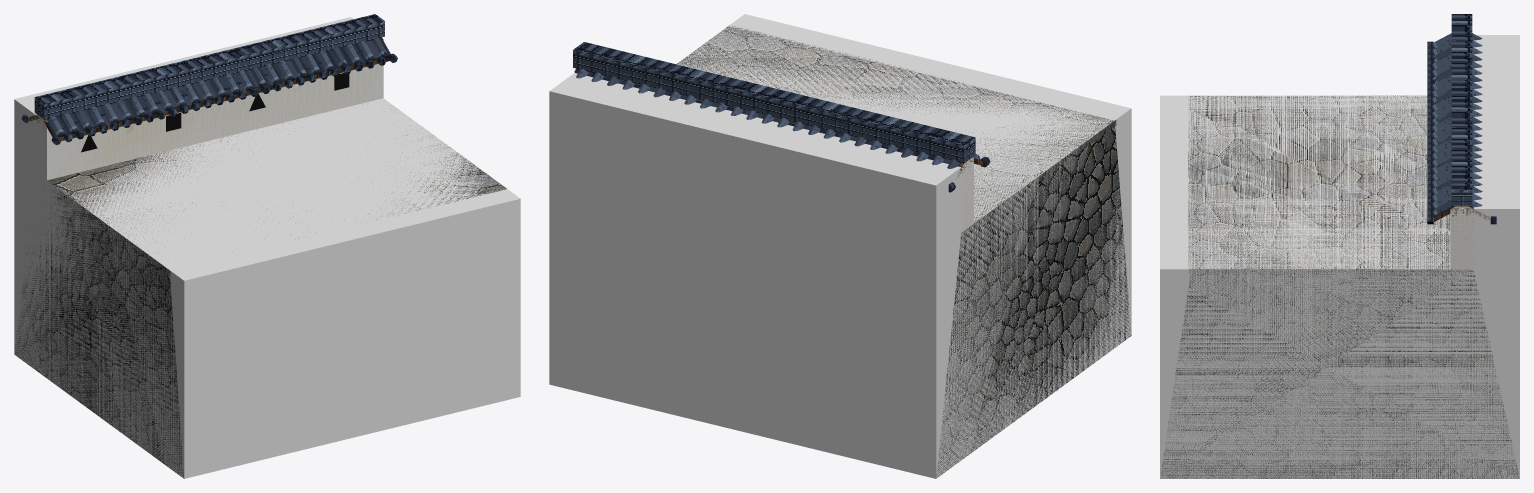
The model's file is JP_Rich_CityWall_8m_A.glb.
3 views of the same model, side by side, from view 1: azimuth 30°, elevation 25°; view 2: azimuth 150°, elevation 25°; view 3: azimuth 270°, elevation 25° (orthographic). The views are drawn at different scales.
Visible parts, largest first — view 1: COL_JP_Rich_CityWall_8m_A, JP_Rich_CityWall_8m_A, COL_JP_Rich_CityWall_8m_A_Parapet; view 2: COL_JP_Rich_CityWall_8m_A, JP_Rich_CityWall_8m_A, COL_JP_Rich_CityWall_8m_A_Parapet; view 3: COL_JP_Rich_CityWall_8m_A, JP_Rich_CityWall_8m_A, COL_JP_Rich_CityWall_8m_A_Parapet.
Boxes of the visible parts, bbox=[...] form: COL_JP_Rich_CityWall_8m_A: bbox=[14, 98, 520, 478]; JP_Rich_CityWall_8m_A: bbox=[15, 14, 506, 478]; COL_JP_Rich_CityWall_8m_A_Parapet: bbox=[14, 17, 383, 180]; COL_JP_Rich_CityWall_8m_A: bbox=[549, 14, 1131, 478]; JP_Rich_CityWall_8m_A: bbox=[573, 25, 1131, 477]; COL_JP_Rich_CityWall_8m_A_Parapet: bbox=[549, 73, 973, 251]; COL_JP_Rich_CityWall_8m_A: bbox=[1160, 95, 1519, 478]; JP_Rich_CityWall_8m_A: bbox=[1161, 14, 1518, 478]; COL_JP_Rich_CityWall_8m_A_Parapet: bbox=[1450, 35, 1519, 269].
Bounding box in the file's own units: 8.17 × 6.23 × 7.
10 materials, 10 textured.
